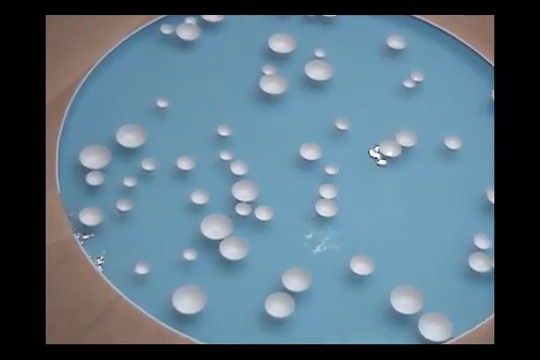bowl: (171, 284, 210, 314), (389, 284, 426, 314), (418, 312, 455, 342), (200, 212, 235, 241), (264, 292, 297, 321), (78, 145, 114, 171), (217, 236, 252, 261), (282, 266, 313, 294), (266, 31, 301, 55), (115, 124, 149, 148), (303, 59, 334, 83), (230, 179, 261, 202), (259, 74, 290, 96), (348, 253, 376, 277), (468, 248, 494, 273), (78, 205, 105, 229), (298, 141, 324, 164), (176, 22, 205, 41), (314, 200, 341, 218), (396, 129, 419, 150), (378, 139, 403, 158), (83, 170, 108, 188), (254, 204, 275, 223), (189, 188, 211, 206), (472, 232, 493, 250), (229, 159, 250, 177), (134, 259, 154, 277), (443, 134, 464, 151), (176, 154, 197, 171), (318, 182, 338, 199), (215, 123, 236, 139), (387, 34, 407, 50), (181, 247, 200, 263), (115, 198, 134, 214), (401, 77, 418, 93), (141, 159, 159, 174), (410, 69, 427, 84), (323, 164, 341, 178), (235, 203, 253, 217), (333, 118, 350, 132), (123, 174, 138, 189), (261, 63, 277, 76), (157, 98, 171, 112), (219, 149, 234, 162), (313, 46, 329, 58), (486, 186, 494, 208), (203, 15, 227, 22), (160, 23, 174, 34), (185, 15, 200, 23), (490, 88, 495, 107), (320, 13, 339, 17)
